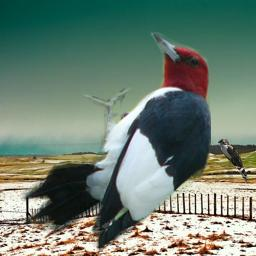Cuckoo: (217, 139, 250, 183)
Woodpecker: (20, 32, 211, 251)
